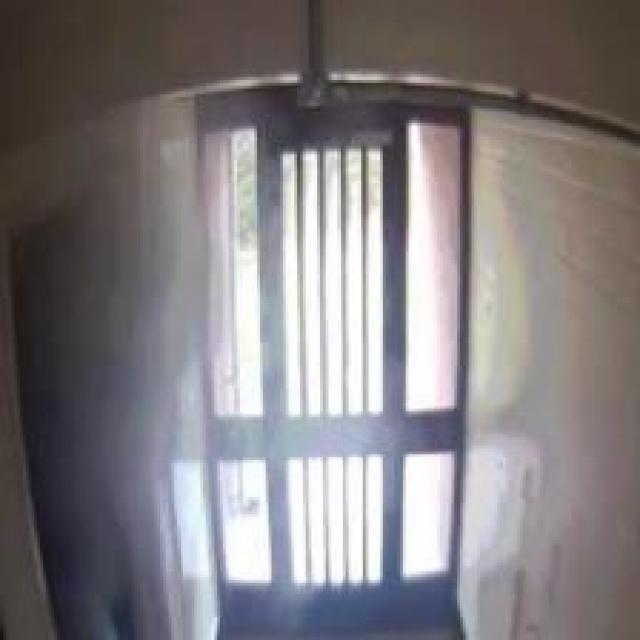fire: (64, 140, 230, 603)
